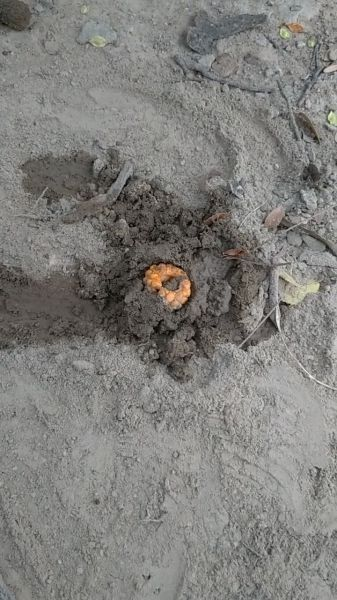eggs: (130, 254, 204, 316)
